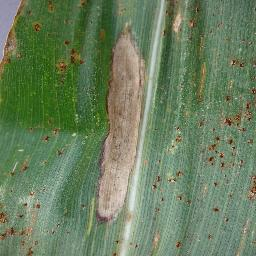Corn_Blight: (86, 19, 158, 255), (200, 52, 256, 229), (6, 120, 68, 180), (2, 189, 46, 254), (167, 119, 188, 253), (159, 0, 213, 42), (5, 2, 30, 71), (38, 2, 80, 35), (51, 39, 84, 77)
